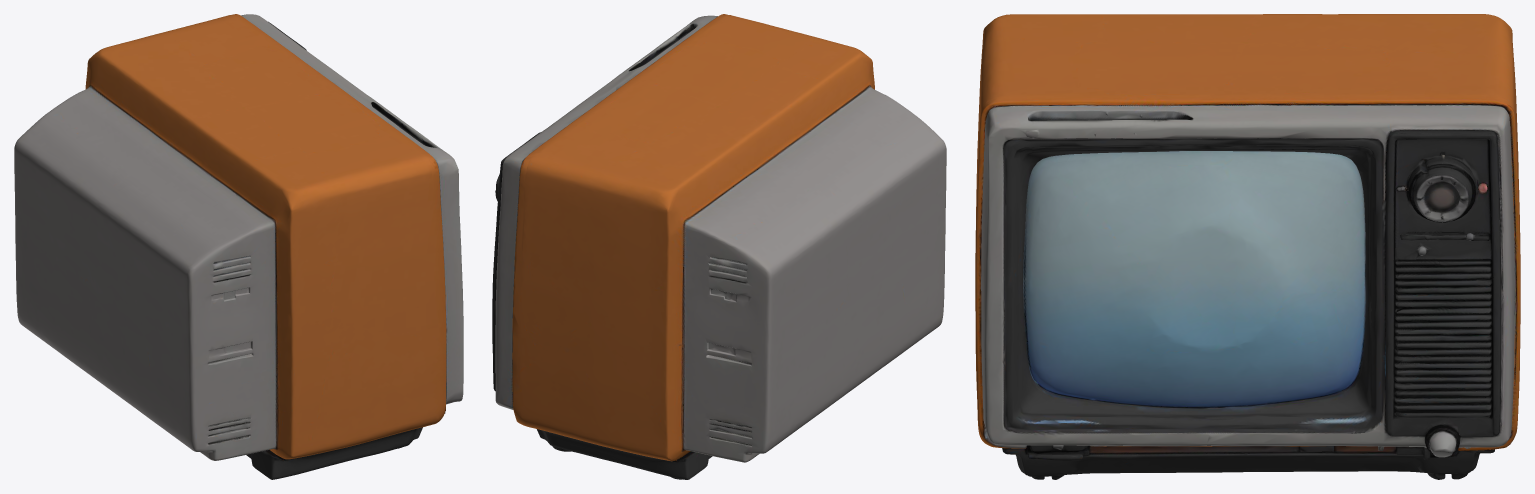
The model's file is retro_crt_tv.glb.
3 renders of one model, left to right at view 1: azimuth 30°, elevation 25°; view 2: azimuth 150°, elevation 25°; view 3: azimuth 270°, elevation 25°, orthographic. The views are drawn at different scales.
Visible parts, largest first — view 1: tripo_node_5b4b5485-3585-4e9c-b8a8-b472672aac26; view 2: tripo_node_5b4b5485-3585-4e9c-b8a8-b472672aac26; view 3: tripo_node_5b4b5485-3585-4e9c-b8a8-b472672aac26.
Part boxes in pixels (bbox=[...]): tripo_node_5b4b5485-3585-4e9c-b8a8-b472672aac26: bbox=[14, 14, 463, 479]; tripo_node_5b4b5485-3585-4e9c-b8a8-b472672aac26: bbox=[492, 14, 946, 479]; tripo_node_5b4b5485-3585-4e9c-b8a8-b472672aac26: bbox=[975, 14, 1520, 479].
Bounding box in the file's own units: 0.7659 × 0.7845 × 1.
1 material, 1 textured.
